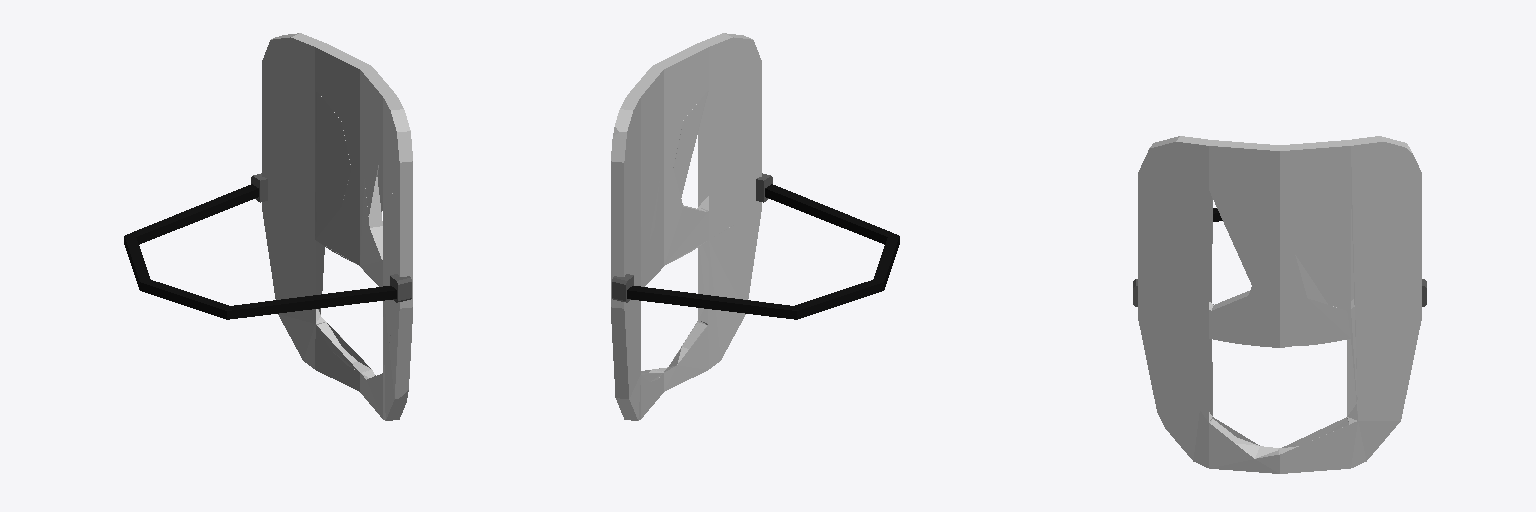
File: Mask.obj
3 views of the same model, side by side, from view 1: azimuth 30°, elevation 25°; view 2: azimuth 150°, elevation 25°; view 3: azimuth 270°, elevation 25° (orthographic).
Parts seen in each view (by area): view 1: Mask_Cylinder; view 2: Mask_Cylinder; view 3: Mask_Cylinder.
Part boxes in pixels (x1,y1,x2,y2): Mask_Cylinder: (124,33,412,420); Mask_Cylinder: (611,33,899,420); Mask_Cylinder: (1133,136,1426,473).
Bounding box in the file's own units: 0.7565 × 1 × 0.8291.